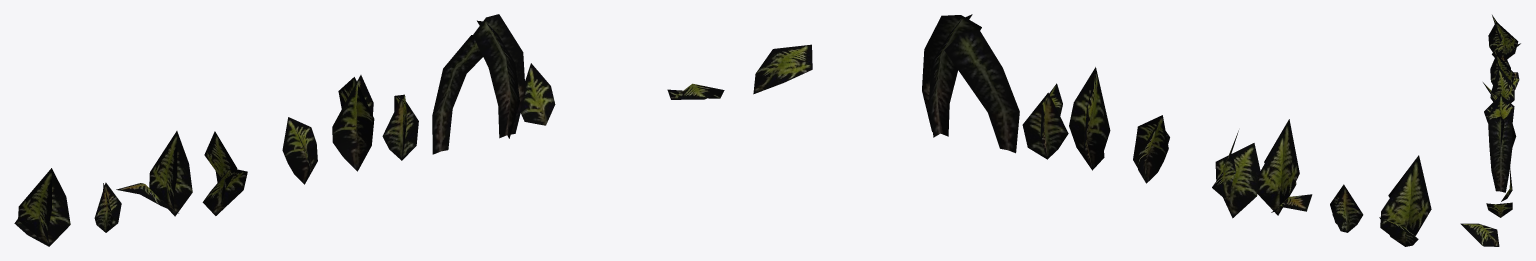
Rendered from moss_01.glb.
3 renders of one model, left to right at view 1: azimuth 30°, elevation 25°; view 2: azimuth 150°, elevation 25°; view 3: azimuth 270°, elevation 25°, orthographic. The views are drawn at different scales.
Visible parts, largest first — view 1: moss_01_tall_b_LOD0, moss_01_f_LOD0, moss_01_a_LOD0, moss_01_c_LOD0, moss_01_tall_a_LOD0, moss_01_d_LOD0, moss_01_e_LOD0, moss_01_g_LOD0, moss_01_h_LOD0, moss_01_b_LOD0, moss_01_j_LOD0; view 2: moss_01_tall_a_LOD0, moss_01_tall_b_LOD0, moss_01_a_LOD0, moss_01_c_LOD0, moss_01_f_LOD0, moss_01_d_LOD0, moss_01_g_LOD0, moss_01_j_LOD0, moss_01_e_LOD0, moss_01_b_LOD0; view 3: moss_01_tall_b_LOD0, moss_01_a_LOD0, moss_01_j_LOD0, moss_01_d_LOD0, moss_01_f_LOD0, moss_01_c_LOD0, moss_01_i_LOD0, moss_01_e_LOD0, moss_01_h_LOD0, moss_01_tall_a_LOD0, moss_01_b_LOD0.
Boxes of the visible parts, <box> form: moss_01_tall_b_LOD0: <box>472,14,525,138</box>; moss_01_f_LOD0: <box>332,75,374,171</box>; moss_01_a_LOD0: <box>14,168,70,246</box>; moss_01_c_LOD0: <box>116,131,192,216</box>; moss_01_tall_a_LOD0: <box>432,35,482,154</box>; moss_01_d_LOD0: <box>202,131,247,215</box>; moss_01_e_LOD0: <box>282,117,317,184</box>; moss_01_g_LOD0: <box>382,94,418,160</box>; moss_01_h_LOD0: <box>520,63,555,125</box>; moss_01_b_LOD0: <box>94,182,121,232</box>; moss_01_j_LOD0: <box>667,83,724,99</box>; moss_01_tall_a_LOD0: <box>944,30,1019,153</box>; moss_01_tall_b_LOD0: <box>922,14,981,137</box>; moss_01_a_LOD0: <box>1379,155,1431,246</box>; moss_01_c_LOD0: <box>1257,119,1312,215</box>; moss_01_f_LOD0: <box>1069,67,1110,170</box>; moss_01_d_LOD0: <box>1212,130,1260,218</box>; moss_01_g_LOD0: <box>1022,83,1068,159</box>; moss_01_j_LOD0: <box>753,44,812,94</box>; moss_01_e_LOD0: <box>1133,115,1169,183</box>; moss_01_b_LOD0: <box>1330,184,1363,232</box>; moss_01_tall_b_LOD0: <box>1488,116,1512,192</box>; moss_01_a_LOD0: <box>1488,15,1520,59</box>; moss_01_j_LOD0: <box>1460,223,1499,246</box>; moss_01_d_LOD0: <box>1483,66,1514,102</box>; moss_01_f_LOD0: <box>1487,94,1514,122</box>; moss_01_c_LOD0: <box>1490,47,1519,89</box>; moss_01_i_LOD0: <box>1486,202,1512,217</box>; moss_01_e_LOD0: <box>1484,91,1500,122</box>; moss_01_h_LOD0: <box>1501,167,1512,201</box>; moss_01_tall_a_LOD0: <box>1511,121,1516,147</box>; moss_01_b_LOD0: <box>1500,53,1510,68</box>.
Size of the model in its own units: 0.2153 by 0.0404 by 0.0294.
1 material, 1 textured.
